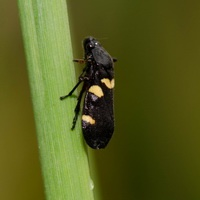insect: (60, 36, 116, 148)
